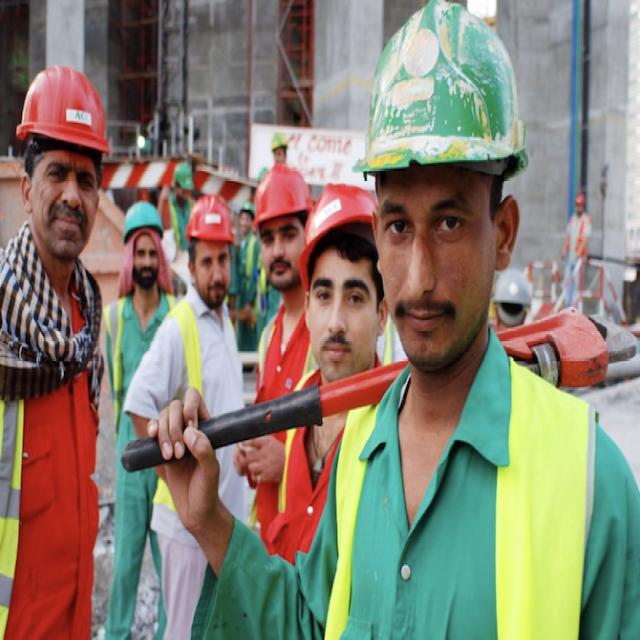helmet: (332, 12, 535, 187), (12, 59, 136, 174), (288, 167, 391, 284), (242, 156, 318, 256), (175, 192, 241, 248), (109, 193, 172, 247), (164, 142, 203, 204), (271, 123, 300, 161), (240, 197, 260, 222)
vest: (311, 354, 639, 640), (322, 354, 603, 640), (154, 296, 210, 516), (98, 287, 188, 419), (1, 242, 31, 627), (267, 373, 326, 561), (246, 311, 286, 476), (233, 225, 273, 328), (158, 188, 189, 263)
